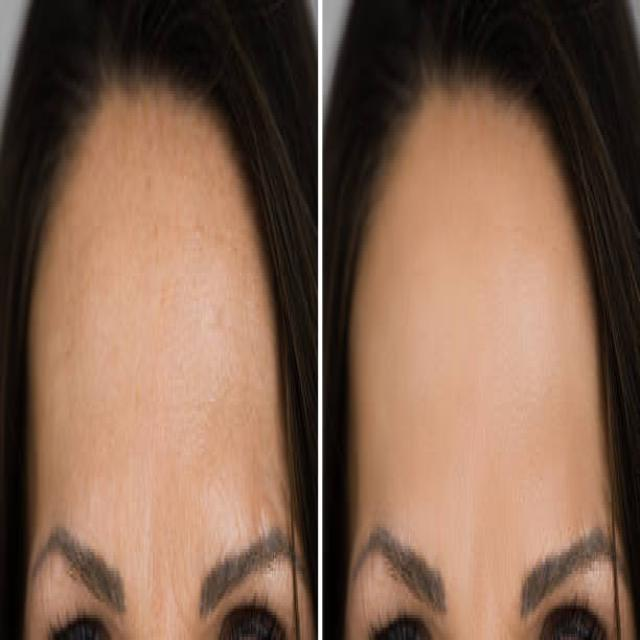dry: (153, 130, 228, 343), (80, 215, 112, 489), (152, 492, 188, 618)
